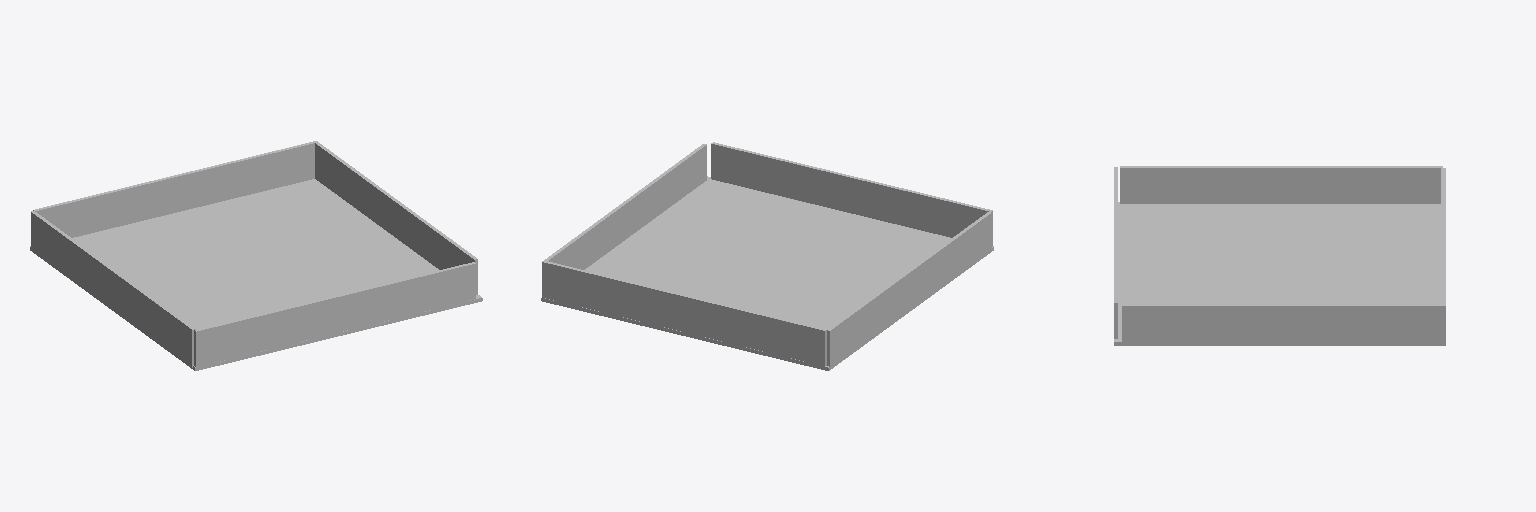
The model's file is tray.obj.
The picture shows the model from 3 angles: view 1: azimuth 30°, elevation 25°; view 2: azimuth 150°, elevation 25°; view 3: azimuth 270°, elevation 25°; orthographic projection.
Visible parts, largest first — view 1: Tray_Cube; view 2: Tray_Cube; view 3: Tray_Cube.
Part boxes in pixels (left/top/right/bottom): Tray_Cube: left=30, top=141, right=482, bottom=370; Tray_Cube: left=541, top=142, right=993, bottom=370; Tray_Cube: left=1114, top=166, right=1445, bottom=345.
Size of the model in its own units: 40.03 by 5.25 by 40.